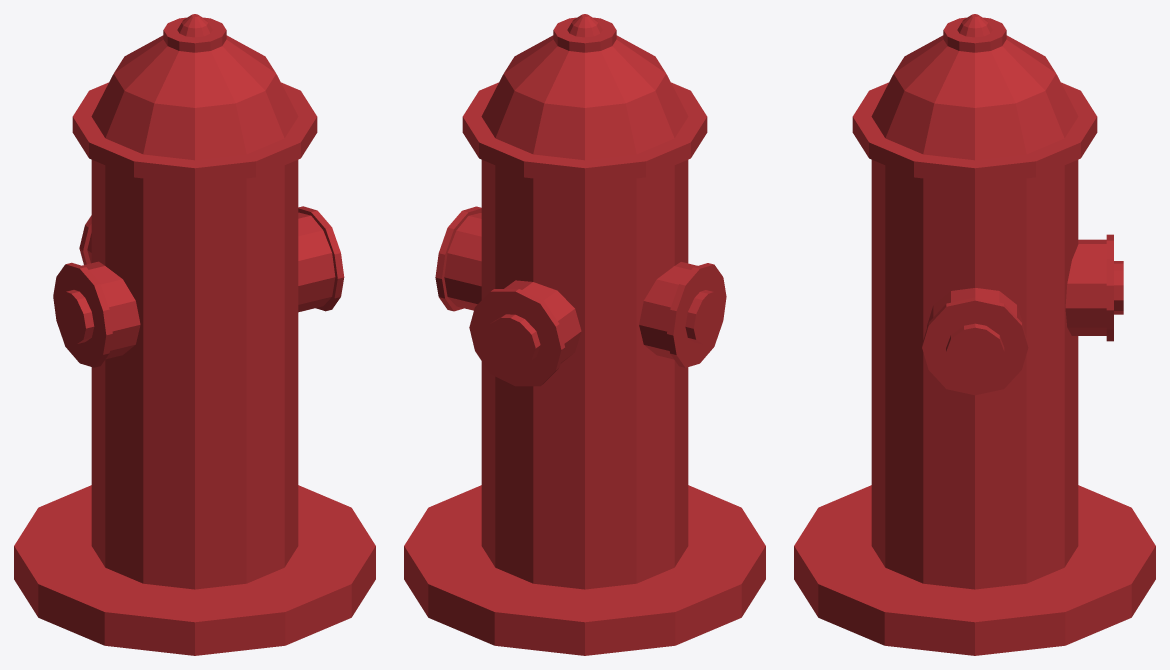
Rendered from FireHydrant.fbx.
3 renders of one model, left to right at view 1: azimuth 30°, elevation 25°; view 2: azimuth 150°, elevation 25°; view 3: azimuth 270°, elevation 25°, orthographic.
Visible parts, largest first — view 1: FireHydrant; view 2: FireHydrant; view 3: FireHydrant.
Boxes of the visible parts, x1,y1,x2,y2 form: FireHydrant: (14, 14, 375, 655); FireHydrant: (404, 14, 765, 655); FireHydrant: (794, 14, 1155, 655).
Bounding box in the file's own units: 200 × 344 × 200.
